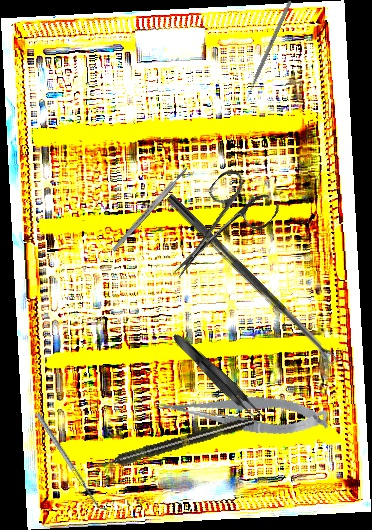Handpiece: (94, 414, 256, 473)
Iris Scissors: (151, 163, 283, 299)
Micro Scissor: (154, 377, 332, 446)
Pusher: (241, 0, 293, 106)
Scalpel Handle: (110, 166, 190, 253)
Spatula Surgical: (35, 410, 108, 514)
Surgical Spoon: (164, 193, 339, 367)
Tissue Forceps: (168, 329, 267, 424)
